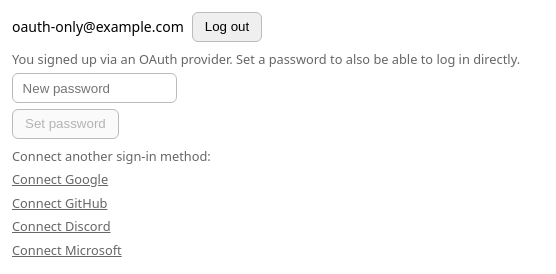
Test case: AuthPanel › Set a password (OAuth-only accounts) › sets a password and refreshes the shared user state
The width and height of the screenshot is (556, 274).
Type "hunter22222" into the password field with placeholder "New password" at (95, 88), box x1=12 y1=73 x2=177 y2=103
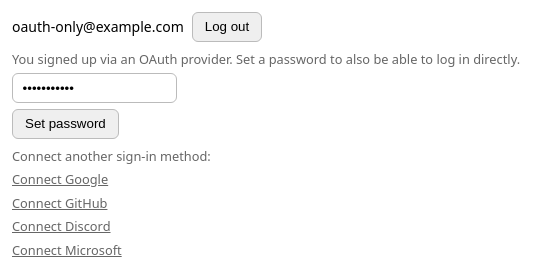
Click the button "Set password" at (65, 124), box x1=12 y1=109 x2=119 y2=139
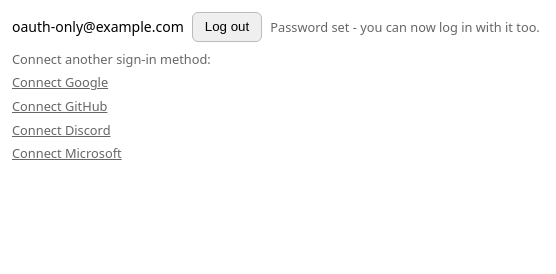
Result: the text "Password set - you can now log in with it too." is shown at x1=270 y1=18 x2=540 y2=36
